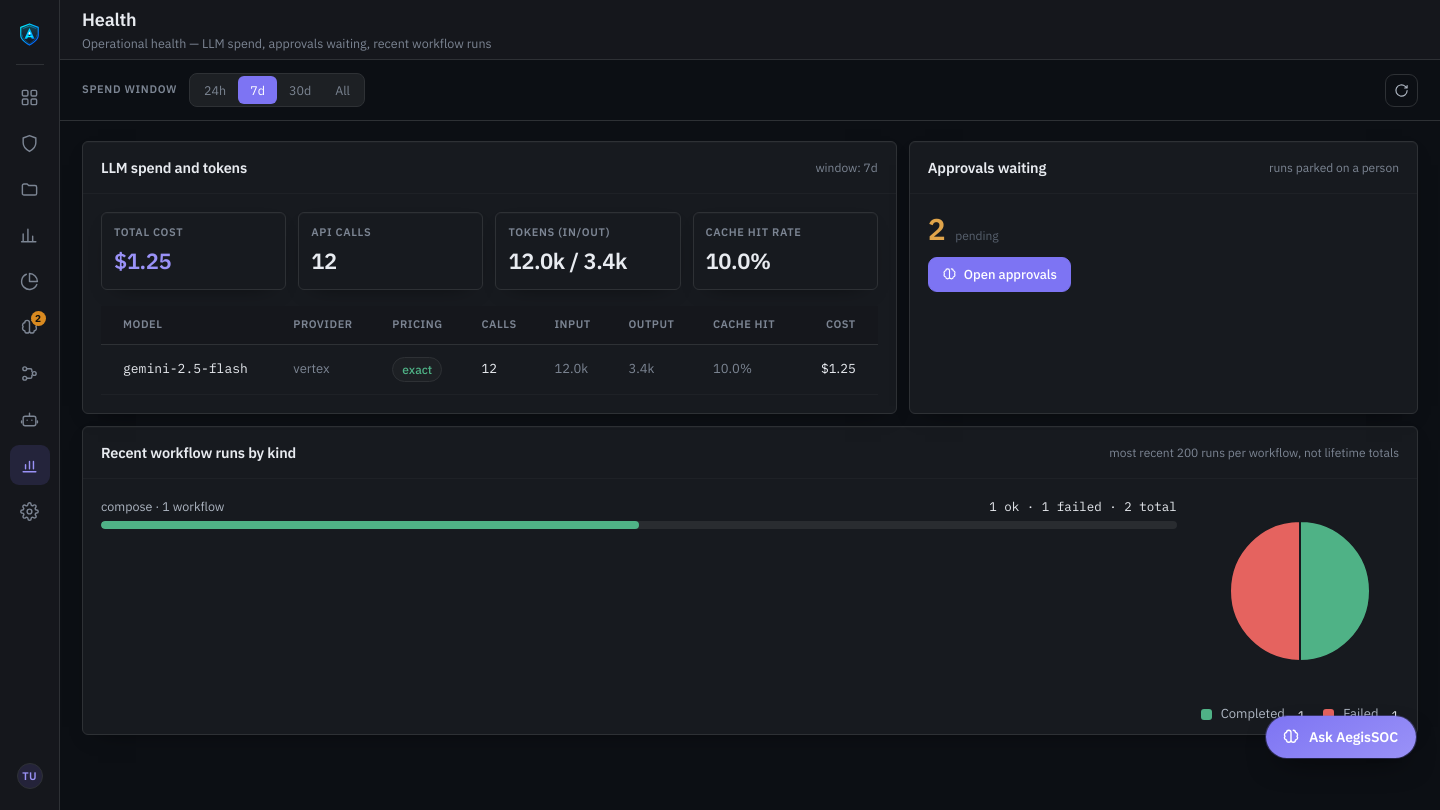
Scenario: SocConsole › counts approvals on the Health screen and sends the button to the approvals tab
The width and height of the screenshot is (1440, 810).
Expected: the text "2" next to "pending" is shown, [928, 209, 945, 248]
Click the button "Open approvals" at [999, 274], box [928, 257, 1071, 292]
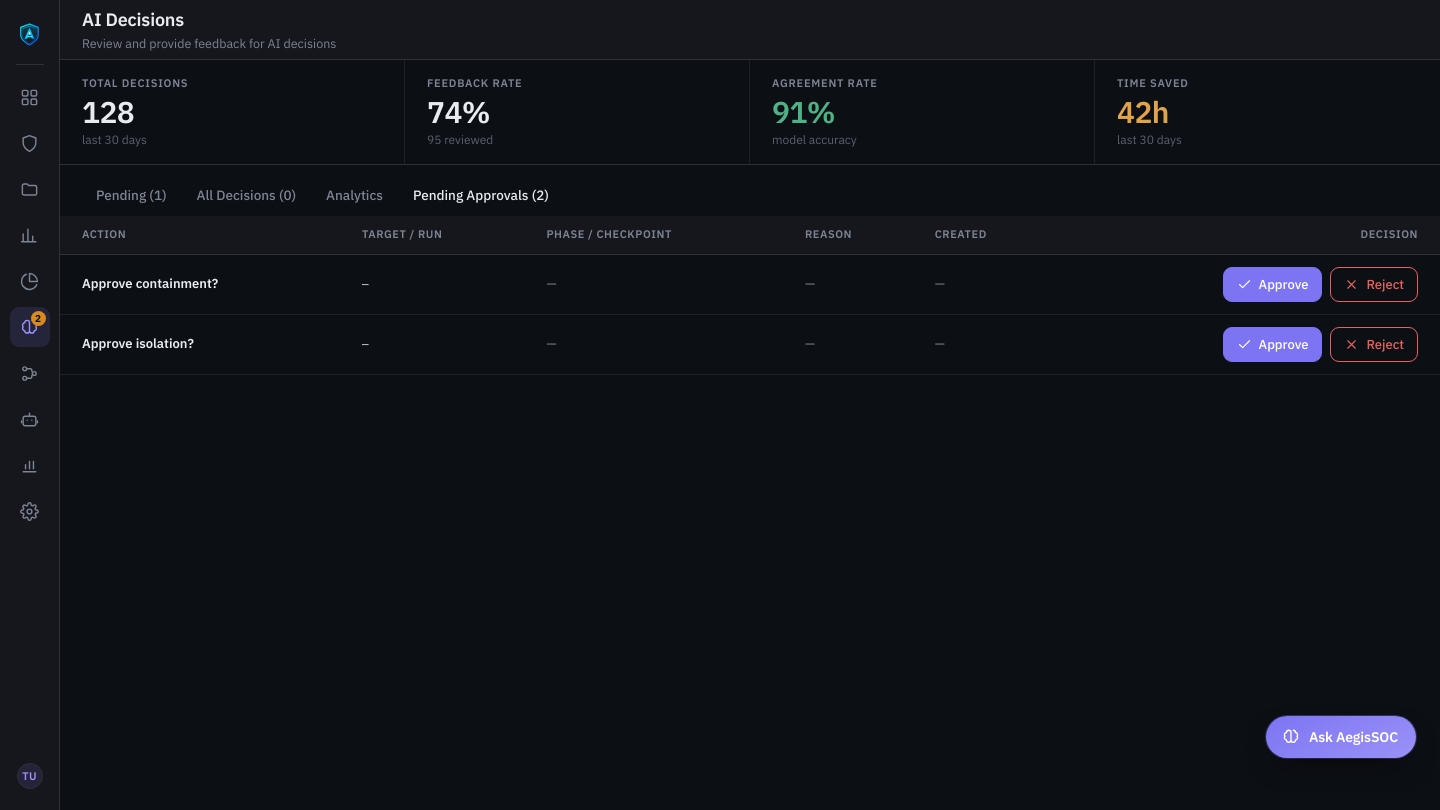
Result: the tab "Pending Approvals (2)" is shown at [399, 178, 563, 212]
